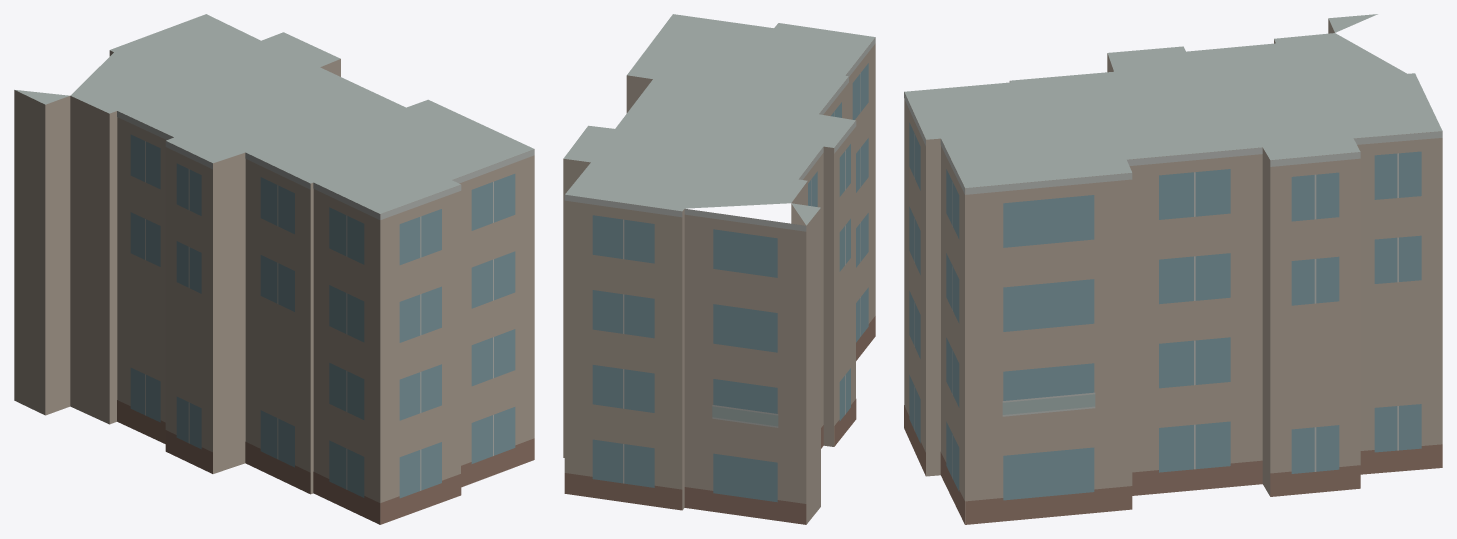
The model's file is survey-upis-32758465.glb.
3 renders of one model, left to right at view 1: azimuth 30°, elevation 25°; view 2: azimuth 150°, elevation 25°; view 3: azimuth 270°, elevation 25°, orthographic. The views are drawn at different scales.
Parts seen in each view (by area): view 1: survey-upis-32758465.tmp; view 2: survey-upis-32758465.tmp; view 3: survey-upis-32758465.tmp.
Boxes of the visible parts, x1=… form: survey-upis-32758465.tmp: x1=14, y1=14, x2=534, y2=524; survey-upis-32758465.tmp: x1=563, y1=14, x2=875, y2=524; survey-upis-32758465.tmp: x1=904, y1=14, x2=1442, y2=524.
Bounding box in the file's own units: 13.54 × 12.2 × 17.69.
